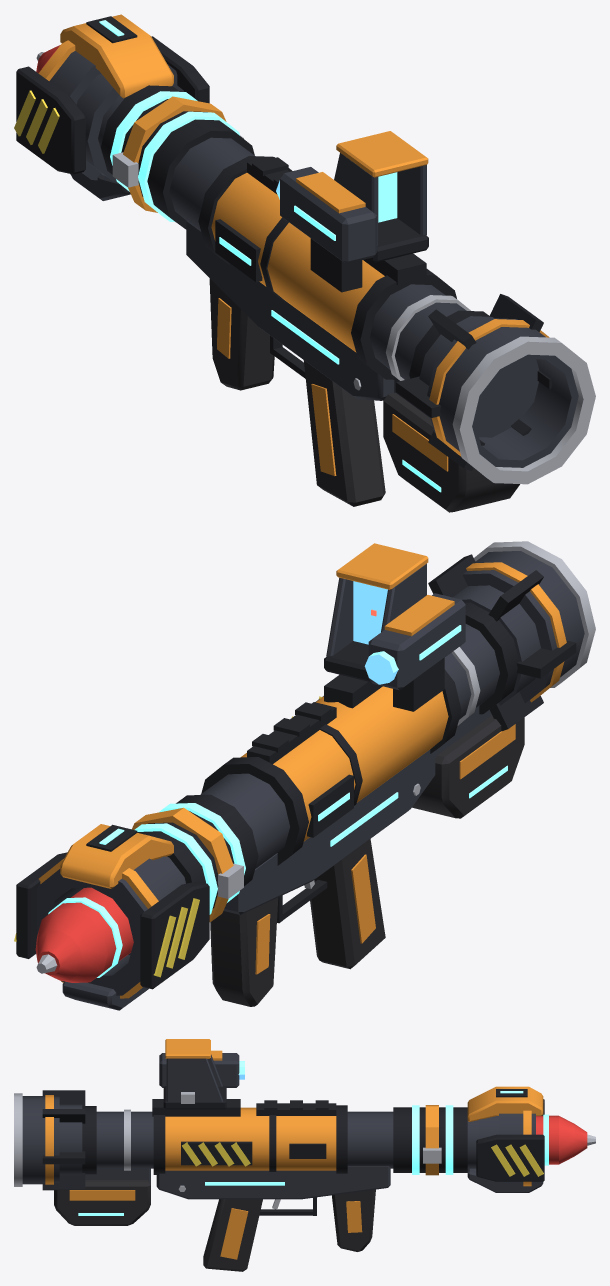
The model's file is NovaLauncher.glb.
The picture shows the model from 3 angles, top to bottom: view 1: azimuth 30°, elevation 25°; view 2: azimuth 150°, elevation 25°; view 3: azimuth 270°, elevation 25°; orthographic projection. The views are drawn at different scales.
Parts seen in each view (by area): view 1: Sleeve, ExhaustBell, Housing, MainTube, ExhaustLip, Grip, ShoulderPad, CoreHousing, ShroudTop, RangeUnit, CheekArmor-1, ExhaustThroat (+31 smaller); view 2: Sleeve, Housing, MainTube, ShoulderPad, Grip, Foregrip, ExhaustBell, Shroud, CheekArmor-1, RangeUnit, ShroudTop, CoreHousing (+40 smaller); view 3: Sleeve, Housing, MainTube, CoreHousing, ShoulderPad, CheekArmor1, ExhaustBell, Grip, OpticWall1, Foregrip, ShroudTop, SidePlateR (+33 smaller).
Boxes of the visible parts, left/top/right/bottom form: Sleeve: left=211, top=173, right=384, bottom=352; ExhaustBell: left=427, top=318, right=578, bottom=467; Housing: left=186, top=220, right=394, bottom=400; MainTube: left=98, top=95, right=466, bottom=379; ExhaustLip: left=452, top=336, right=595, bottom=484; Grip: left=304, top=360, right=385, bottom=506; ShoulderPad: left=383, top=392, right=519, bottom=512; CoreHousing: left=101, top=85, right=254, bottom=229; ShroudTop: left=60, top=14, right=173, bottom=98; RangeUnit: left=280, top=167, right=376, bottom=263; CheekArmor-1: left=16, top=66, right=85, bottom=174; ExhaustThroat: left=419, top=316, right=539, bottom=437; Sleeve: left=240, top=686, right=448, bottom=841; Housing: left=223, top=749, right=435, bottom=914; MainTube: left=165, top=624, right=499, bottom=883; ShoulderPad: left=412, top=715, right=524, bottom=818; Grip: left=310, top=839, right=385, bottom=969; Foregrip: left=210, top=897, right=278, bottom=1006; ExhaustBell: left=462, top=551, right=584, bottom=703; Shroud: left=37, top=858, right=175, bottom=995; CheekArmor-1: left=140, top=881, right=209, bottom=989; RangeUnit: left=368, top=593, right=465, bottom=690; ShroudTop: left=60, top=824, right=173, bottom=888; CoreHousing: left=137, top=794, right=258, bottom=908; Sleeve: left=165, top=1107, right=336, bottom=1170; Housing: left=156, top=1166, right=390, bottom=1199; MainTube: left=96, top=1111, right=478, bottom=1168; CoreHousing: left=393, top=1107, right=467, bottom=1172; ShoulderPad: left=54, top=1180, right=150, bottom=1225; CheekArmor1: left=476, top=1134, right=544, bottom=1181; ExhaustBell: left=22, top=1096, right=59, bottom=1184; Grip: left=203, top=1199, right=262, bottom=1271; OpticWall1: left=166, top=1058, right=222, bottom=1102; Foregrip: left=332, top=1189, right=375, bottom=1251; ShroudTop: left=467, top=1086, right=543, bottom=1121; SidePlateR: left=181, top=1141, right=252, bottom=1165.
Bounding box in the file's own units: 0.7 × 1.71 × 4.08.
